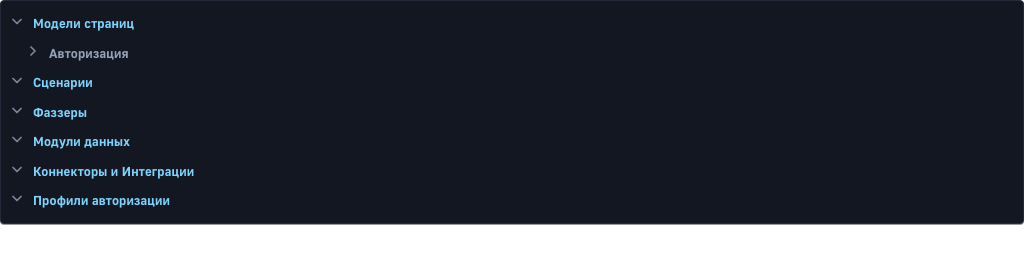
Test: StudioBlocksTree folders › держит папку закрытой и показывает лист после раскрытия
Expected: the text "Авторизация" is shown, [49,44,129,60]
Expected: the text "login" is not shown
Click the icon next to "Авторизация" at (33, 50), box [25,42,41,58]
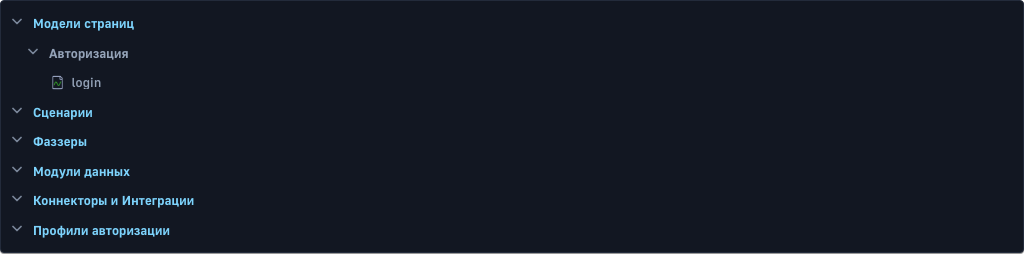
Now the text "login" is shown, box [72,74,101,90]
